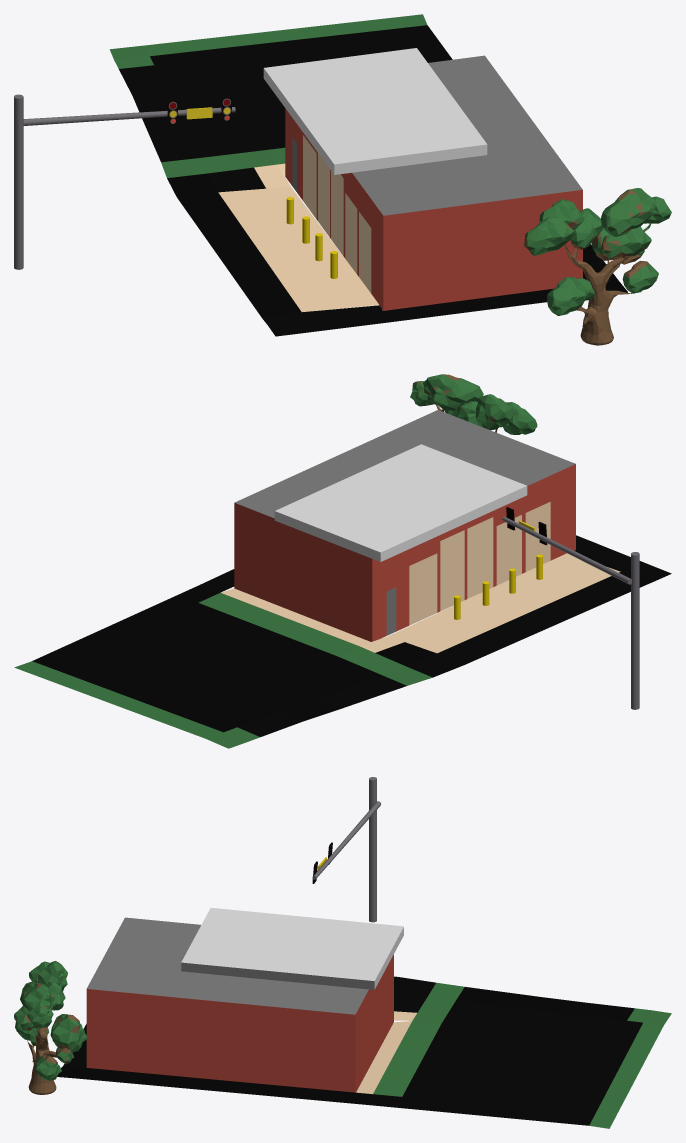
The model's file is capefirehouse6.glb.
3 views of the same model, one above another, from view 1: azimuth 30°, elevation 25°; view 2: azimuth 150°, elevation 25°; view 3: azimuth 270°, elevation 25° (orthographic). The views are drawn at different scales.
Visible parts, largest first — view 1: Cylinder.003, tree_Cube.004; view 2: Cylinder.003, tree_Cube.004; view 3: Cylinder.003, tree_Cube.004.
Boxes of the visible parts, x1,y1,x2,y2 form: Cylinder.003: (14, 14, 627, 336); tree_Cube.004: (524, 188, 671, 345); Cylinder.003: (14, 410, 671, 748); tree_Cube.004: (410, 374, 537, 434); Cylinder.003: (57, 777, 671, 1128); tree_Cube.004: (14, 961, 87, 1094).
Bounding box in the file's own units: 0.1572 × 0.0522 × 0.196.
